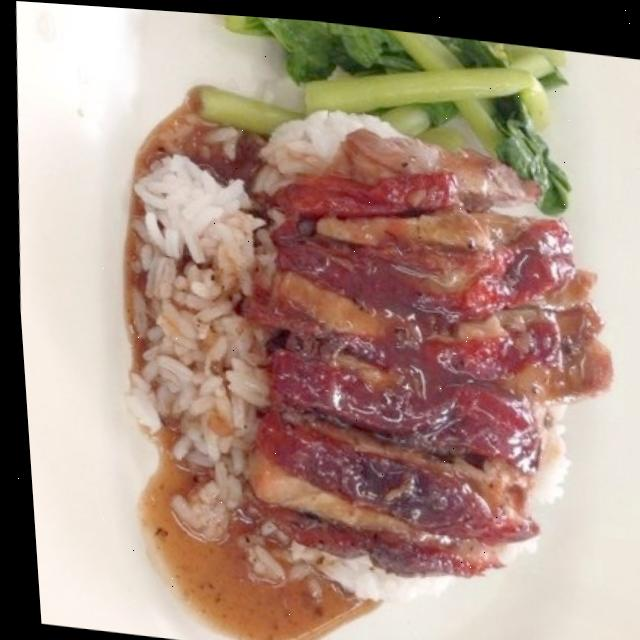米饭主食: (40, 35, 640, 640)
